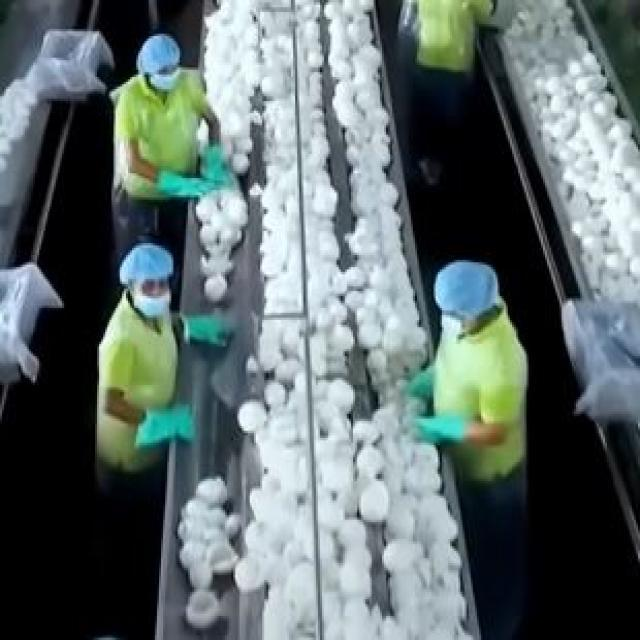gloved_hand: (177, 299, 235, 356), (137, 406, 201, 452), (408, 411, 468, 455), (153, 165, 213, 201), (399, 359, 441, 403), (199, 141, 236, 185)
